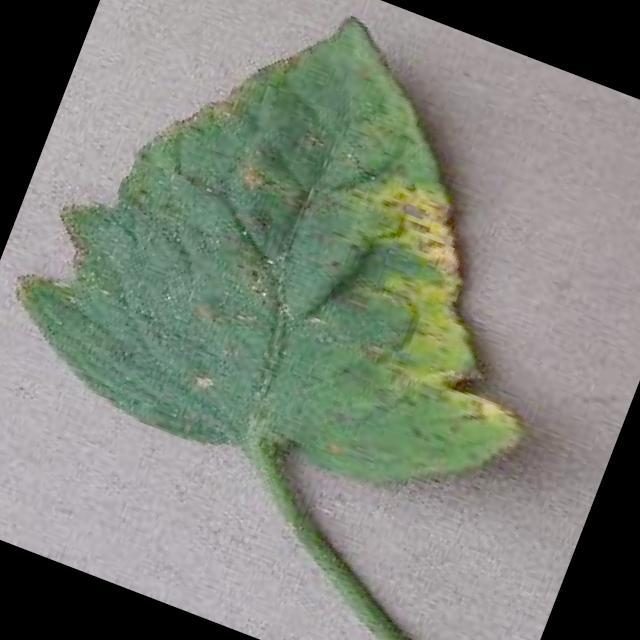Tomato bacterial spot leaf: (0, 0, 640, 565)
